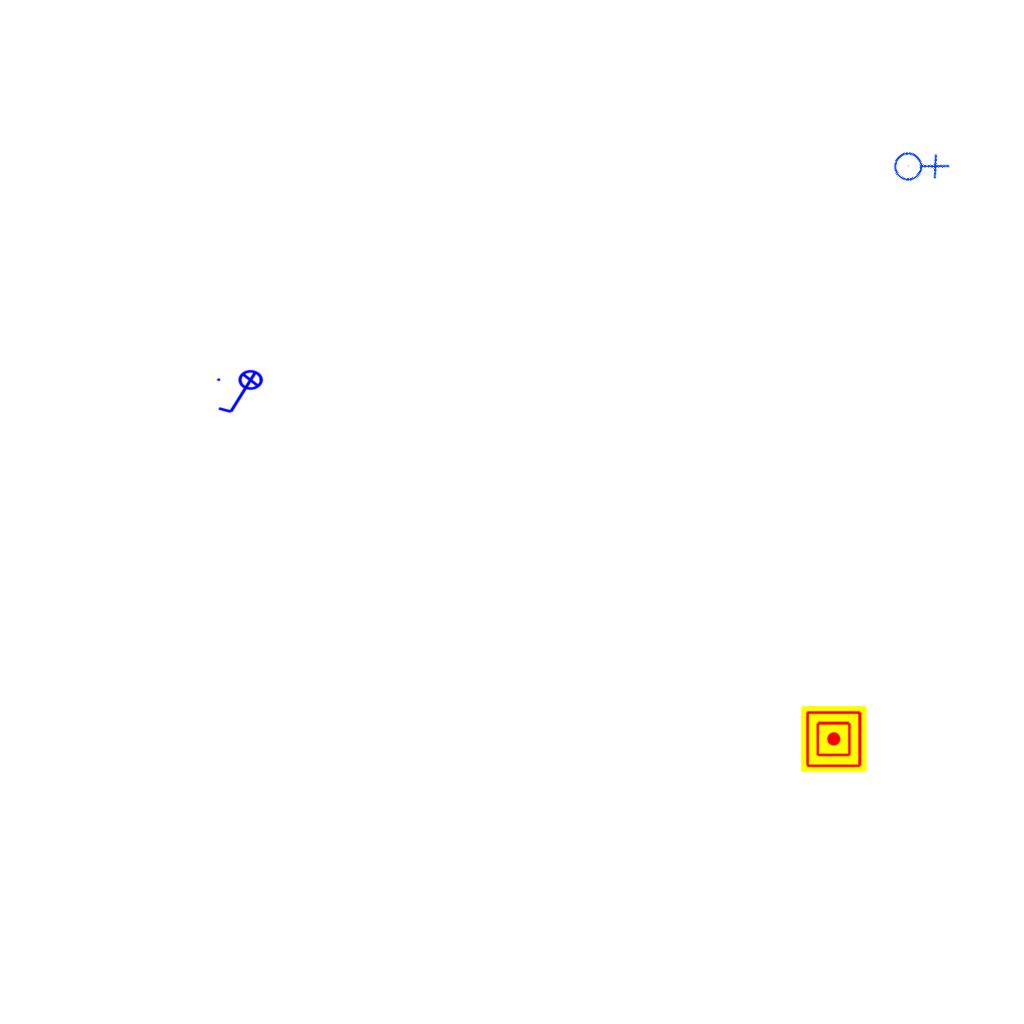Ausschalter_beleuchtet: (214, 369, 270, 417)
Elektroanschluss_allgemein_230V_Geraeteanschlussdose_230V: (884, 130, 953, 199)
NAM-Nichtautomatischer_Melder: (801, 706, 867, 772)
